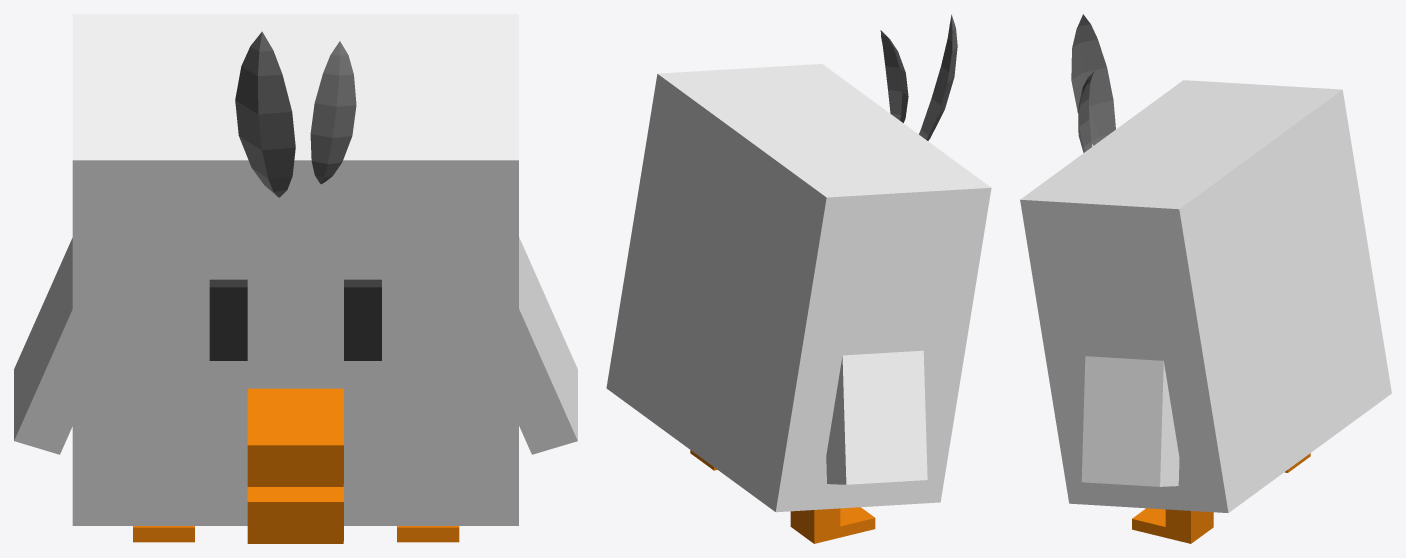
File: Ch_03@Win.FBX
3 renders of one model, left to right at view 1: azimuth 30°, elevation 25°; view 2: azimuth 150°, elevation 25°; view 3: azimuth 270°, elevation 25°, orthographic. The views are drawn at different scales.
Visible parts, largest first — view 1: Ch_03, Ch_03_Feather, Ch_03_Wing_L, Ch_03_Wing_R, Ch_03_Leg_R, Ch_03_Leg_L; view 2: Ch_03, Ch_03_Wing_L, Ch_03_Feather, Ch_03_Leg_L; view 3: Ch_03, Ch_03_Wing_R, Ch_03_Feather, Ch_03_Leg_R.
Part boxes in pixels (x1,y1,x2,y2): Ch_03: [72, 14, 518, 543]; Ch_03_Feather: [235, 31, 356, 197]; Ch_03_Wing_L: [14, 238, 72, 454]; Ch_03_Wing_R: [519, 237, 577, 454]; Ch_03_Leg_R: [397, 526, 459, 542]; Ch_03_Leg_L: [133, 526, 194, 542]; Ch_03: [606, 64, 991, 512]; Ch_03_Wing_L: [826, 350, 927, 484]; Ch_03_Feather: [880, 14, 957, 140]; Ch_03_Leg_L: [790, 507, 875, 543]; Ch_03: [1020, 80, 1391, 512]; Ch_03_Wing_R: [1081, 356, 1179, 486]; Ch_03_Feather: [1071, 14, 1115, 152]; Ch_03_Leg_R: [1132, 508, 1213, 543].
Bounding box in the file's own units: 10.3 × 11.89 × 9.25.
